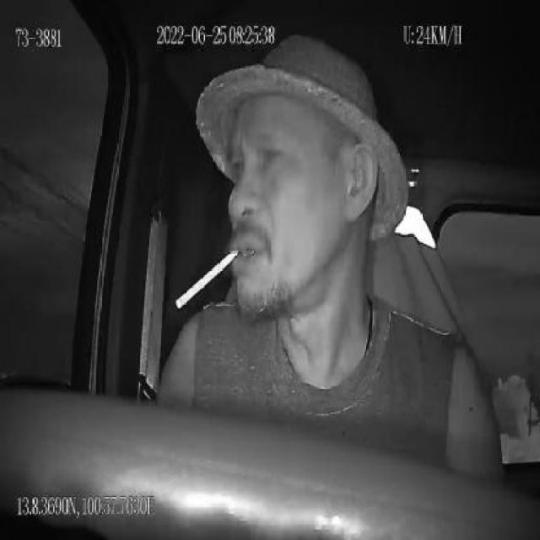smoking: (175, 248, 237, 312)
